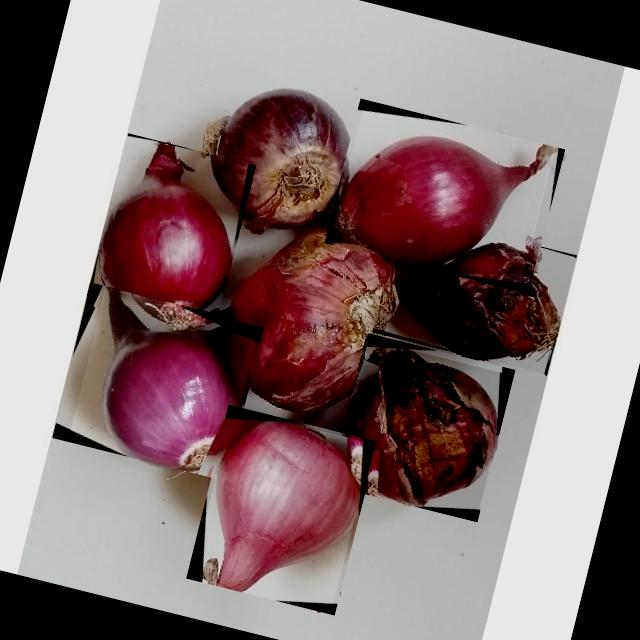healthy: (334, 134, 554, 265), (202, 420, 360, 591), (103, 288, 240, 472), (99, 143, 231, 326)
rotten: (345, 347, 497, 506), (391, 246, 559, 360)
